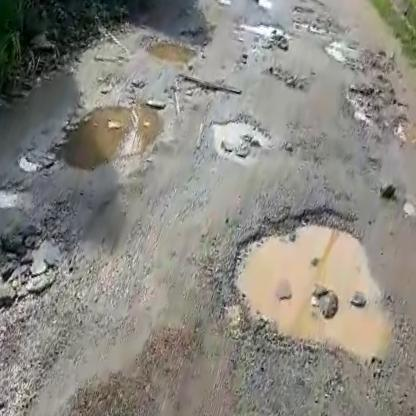pothole: (211, 185, 416, 377), (40, 78, 171, 197), (0, 215, 85, 347), (334, 67, 416, 154), (202, 107, 272, 163), (171, 68, 247, 107), (235, 11, 304, 51), (139, 31, 201, 72), (0, 174, 35, 217)
